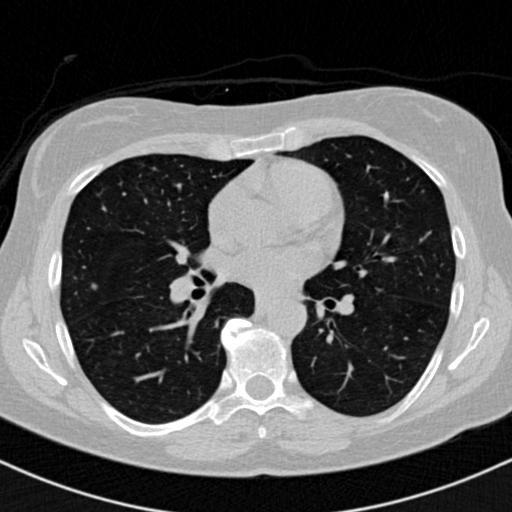nodule: (88, 281, 100, 293)
